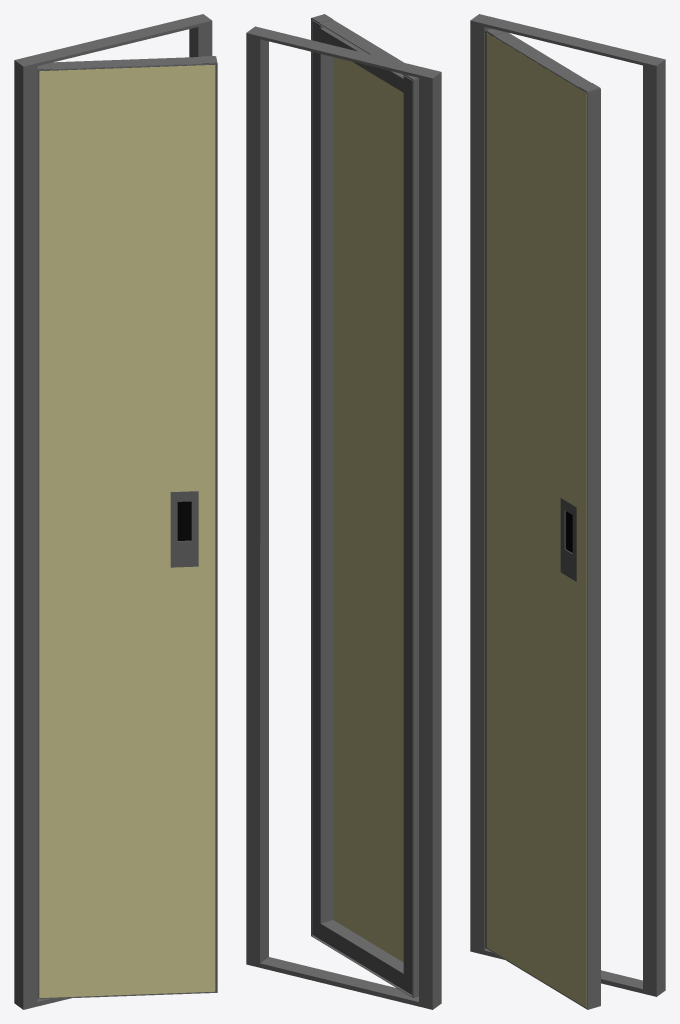
Rendered from Door Half Panel.glb.
3 views of the same model, side by side, from view 1: azimuth 30°, elevation 25°; view 2: azimuth 150°, elevation 25°; view 3: azimuth 330°, elevation 25° (orthographic).
Visible parts, largest first — view 1: Door HalfPanel.001; view 2: Door HalfPanel.001; view 3: Door HalfPanel.001.
Boxes of the visible parts, <box> form: Door HalfPanel.001: <box>14,14,217,1009</box>; Door HalfPanel.001: <box>246,14,441,1009</box>; Door HalfPanel.001: <box>470,14,665,1009</box>.
Bounding box in the file's own units: 0.4948 × 2.36 × 0.2114.
